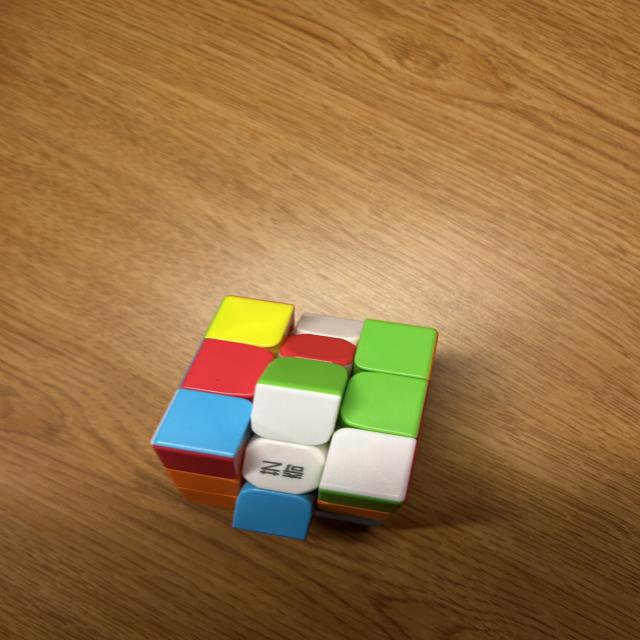Rubiks Cube: (150, 293, 436, 543)
